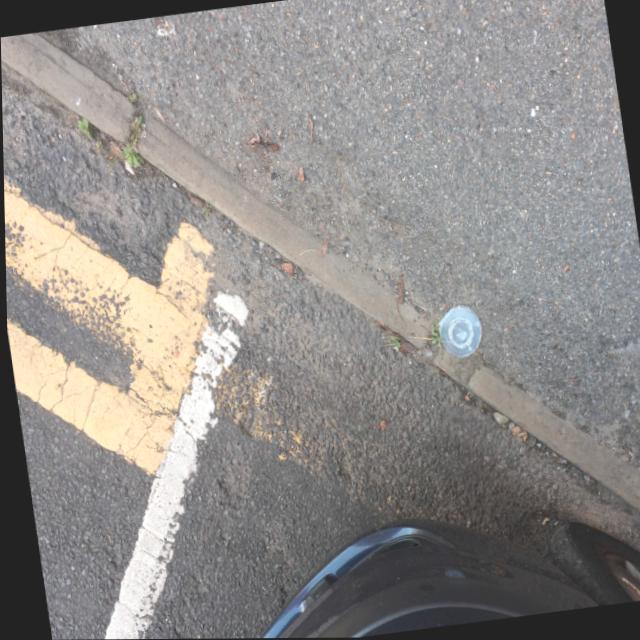Plastic: (428, 297, 488, 368)
